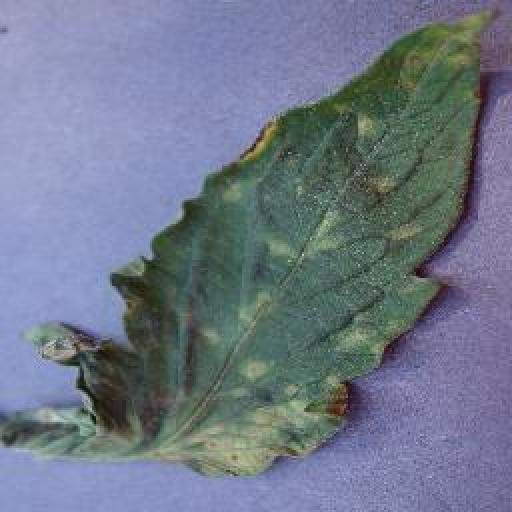Leaf Mold: (0, 7, 500, 477)
